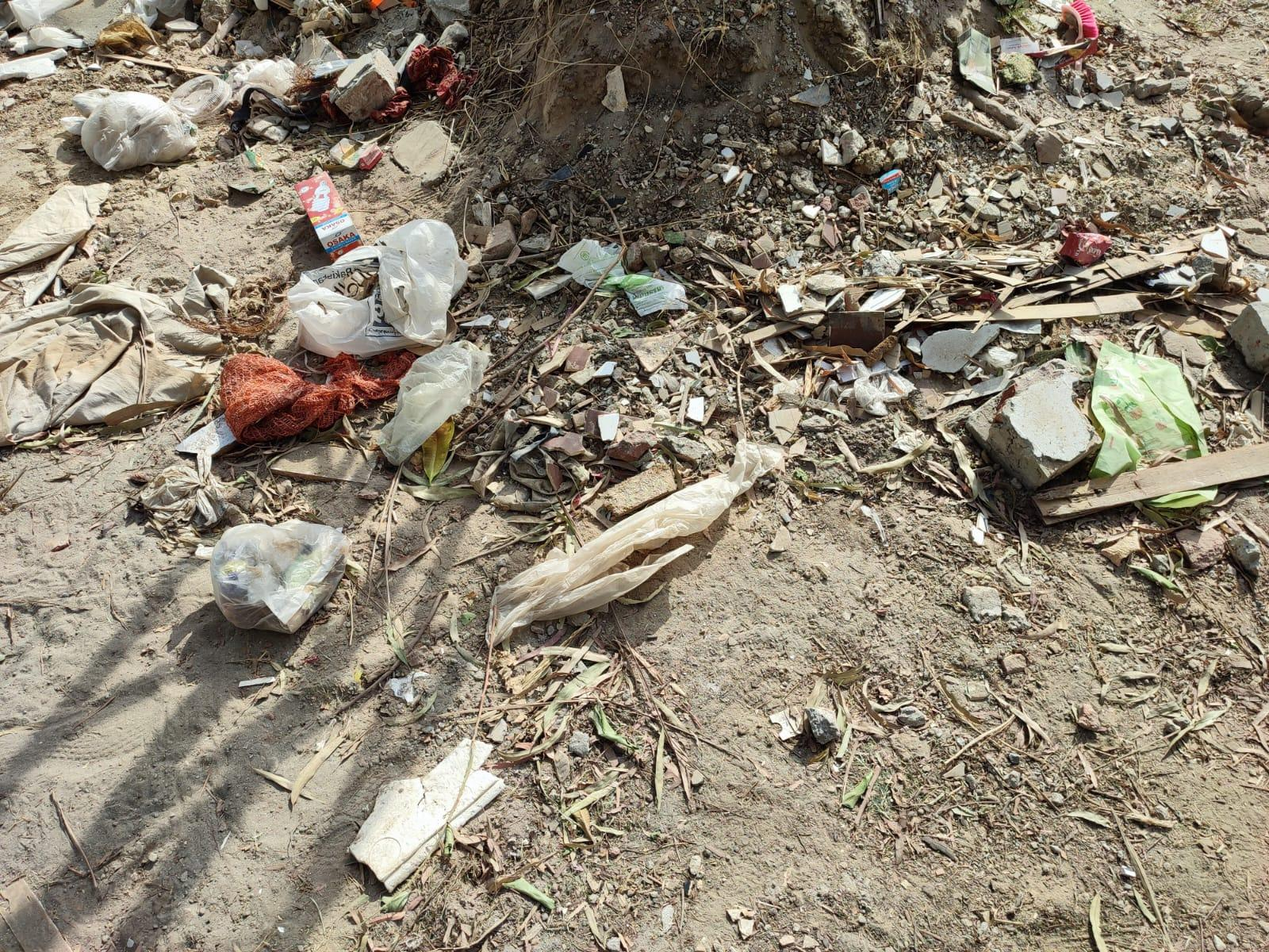garbage: (116, 6, 1269, 591)
